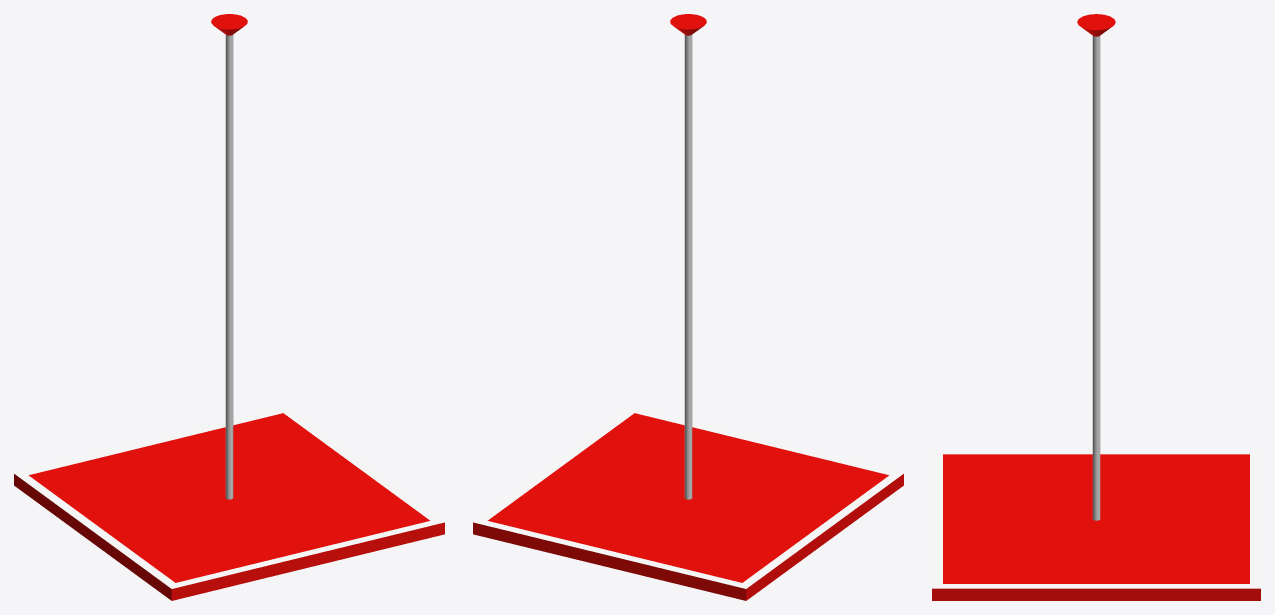
File: Square_single_Pole.glb
The picture shows the model from 3 angles, left to right: view 1: azimuth 30°, elevation 25°; view 2: azimuth 150°, elevation 25°; view 3: azimuth 270°, elevation 25°; orthographic projection. The views are drawn at different scales.
Parts seen in each view (by area): view 1: Plane.001; view 2: Plane.001; view 3: Plane.001.
Part boxes in pixels (x1,y1,x2,y2): Plane.001: (14,14,444,600); Plane.001: (473,14,903,600); Plane.001: (932,14,1260,600).
Size of what is drawn, in the model's own units: 1.83 by 3.12 by 1.83.
